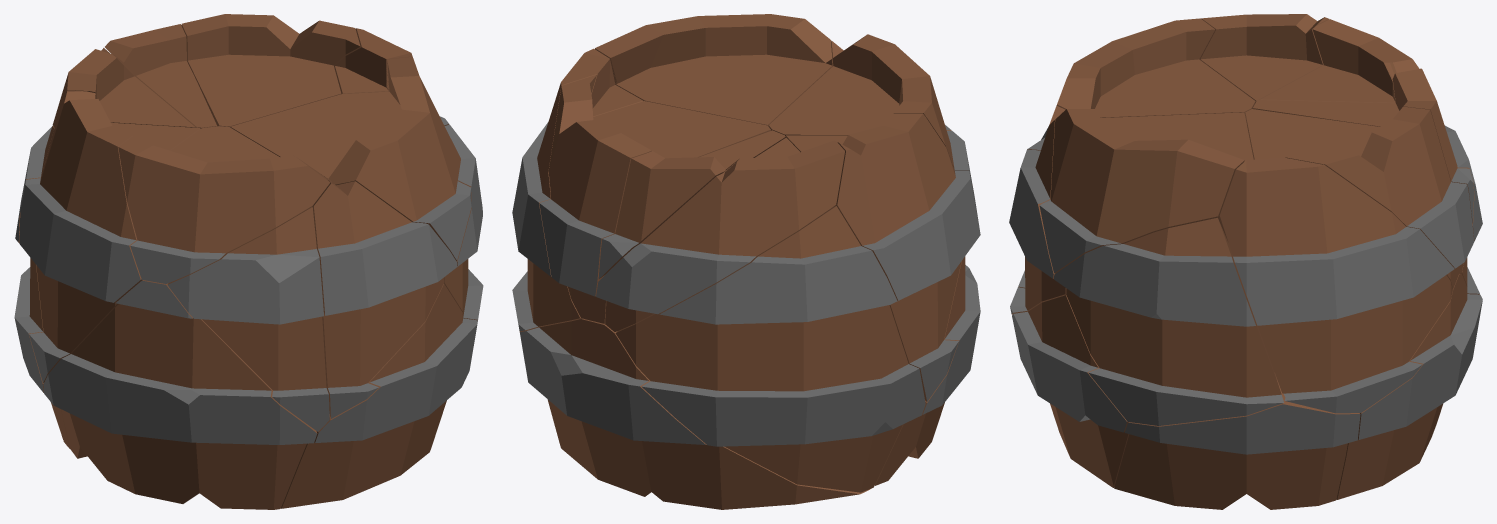
File: OilBarrelBroken.fbx
3 renders of one model, left to right at view 1: azimuth 30°, elevation 25°; view 2: azimuth 150°, elevation 25°; view 3: azimuth 270°, elevation 25°, orthographic.
Parts seen in each view (by area): view 1: Cylinder.001_cell.008, Cylinder.001_cell.003, Cylinder.001_cell.010, Cylinder.001_cell.011, Cylinder.001_cell.013, Cylinder.001_cell.002, Cylinder.001_cell, Cylinder.001_cell.004, Cylinder.001_cell.012, Cylinder.001_cell.014, Cylinder.001_cell.007, Cylinder.001_cell.001 (+1 smaller); view 2: Cylinder.001_cell.001, Cylinder.001_cell.009, Cylinder.001_cell.003, Cylinder.001_cell.014, Cylinder.001_cell.004, Cylinder.001_cell.013, Cylinder.001_cell.010, Cylinder.001_cell.006, Cylinder.001_cell.012, Cylinder.001_cell.008; view 3: Cylinder.001_cell.006, Cylinder.001_cell.007, Cylinder.001_cell.013, Cylinder.001_cell.005, Cylinder.001_cell.004, Cylinder.001_cell.010, Cylinder.001_cell.009, Cylinder.001_cell, Cylinder.001_cell.014, Cylinder.001_cell.003, Cylinder.001_cell.011, Cylinder.001_cell.012.
Part boxes in pixels (<box>): Cylinder.001_cell.008: <box>43,280,317,509</box>; Cylinder.001_cell.003: <box>19,90,200,382</box>; Cylinder.001_cell.010: <box>118,126,330,283</box>; Cylinder.001_cell.011: <box>312,180,457,418</box>; Cylinder.001_cell.013: <box>230,57,471,260</box>; Cylinder.001_cell.002: <box>167,206,329,431</box>; Cylinder.001_cell: <box>281,284,477,508</box>; Cylinder.001_cell.004: <box>181,14,360,126</box>; Cylinder.001_cell.012: <box>105,24,216,128</box>; Cylinder.001_cell.014: <box>52,48,195,127</box>; Cylinder.001_cell.007: <box>444,124,483,320</box>; Cylinder.001_cell.001: <box>14,125,70,448</box>; Cylinder.001_cell.001: <box>615,206,925,492</box>; Cylinder.001_cell.009: <box>519,318,870,509</box>; Cylinder.001_cell.003: <box>783,113,980,401</box>; Cylinder.001_cell.014: <box>596,137,844,331</box>; Cylinder.001_cell.004: <box>539,74,770,323</box>; Cylinder.001_cell.013: <box>595,14,833,126</box>; Cylinder.001_cell.010: <box>768,34,972,187</box>; Cylinder.001_cell.006: <box>512,48,643,331</box>; Cylinder.001_cell.012: <box>598,130,785,278</box>; Cylinder.001_cell.008: <box>874,184,980,485</box>; Cylinder.001_cell.006: <box>1219,157,1454,413</box>; Cylinder.001_cell.007: <box>1054,217,1283,425</box>; Cylinder.001_cell.013: <box>1039,109,1253,273</box>; Cylinder.001_cell.005: <box>1114,374,1360,509</box>; Cylinder.001_cell.004: <box>1245,106,1474,288</box>; Cylinder.001_cell.010: <box>1056,18,1255,125</box>; Cylinder.001_cell.009: <box>1336,273,1482,499</box>; Cylinder.001_cell: <box>1012,295,1129,487</box>; Cylinder.001_cell.014: <box>1260,19,1482,273</box>; Cylinder.001_cell.003: <box>1199,14,1329,102</box>; Cylinder.001_cell.011: <box>1009,105,1066,314</box>; Cylinder.001_cell.012: <box>1252,63,1474,223</box>.
Size of the model in its own units: 85.62 by 69.51 by 85.76.
